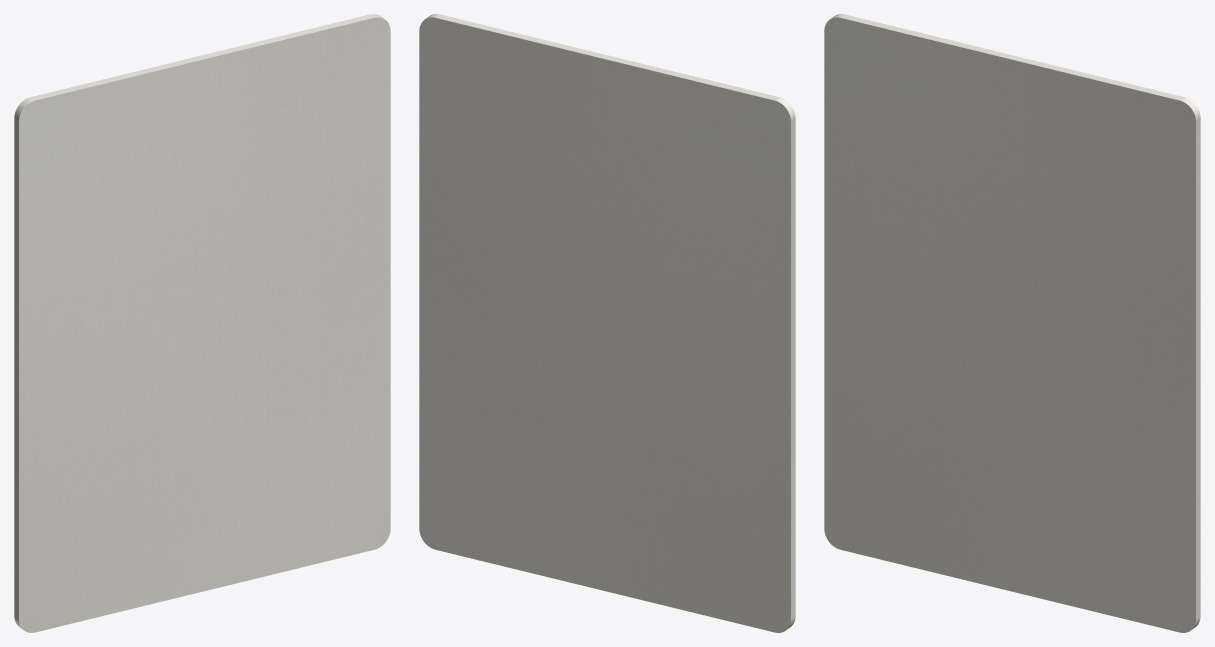
Rendered from CardTemplate.fbx.
The picture shows the model from 3 angles, left to right: view 1: azimuth 30°, elevation 25°; view 2: azimuth 150°, elevation 25°; view 3: azimuth 330°, elevation 25°; orthographic projection.
Visible parts, largest first — view 1: Card; view 2: Card; view 3: Card.
Part boxes in pixels (bbox=[...]): Card: bbox=[14, 14, 390, 632]; Card: bbox=[419, 14, 795, 632]; Card: bbox=[824, 14, 1200, 632].
Size of the model in its own units: 1.39 by 1.9 by 0.03.
